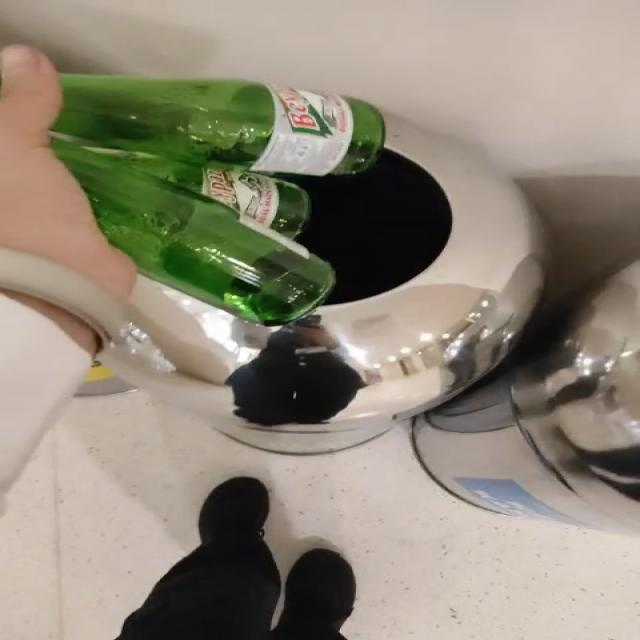bin: (101, 115, 544, 455)
glass: (51, 75, 385, 325)
